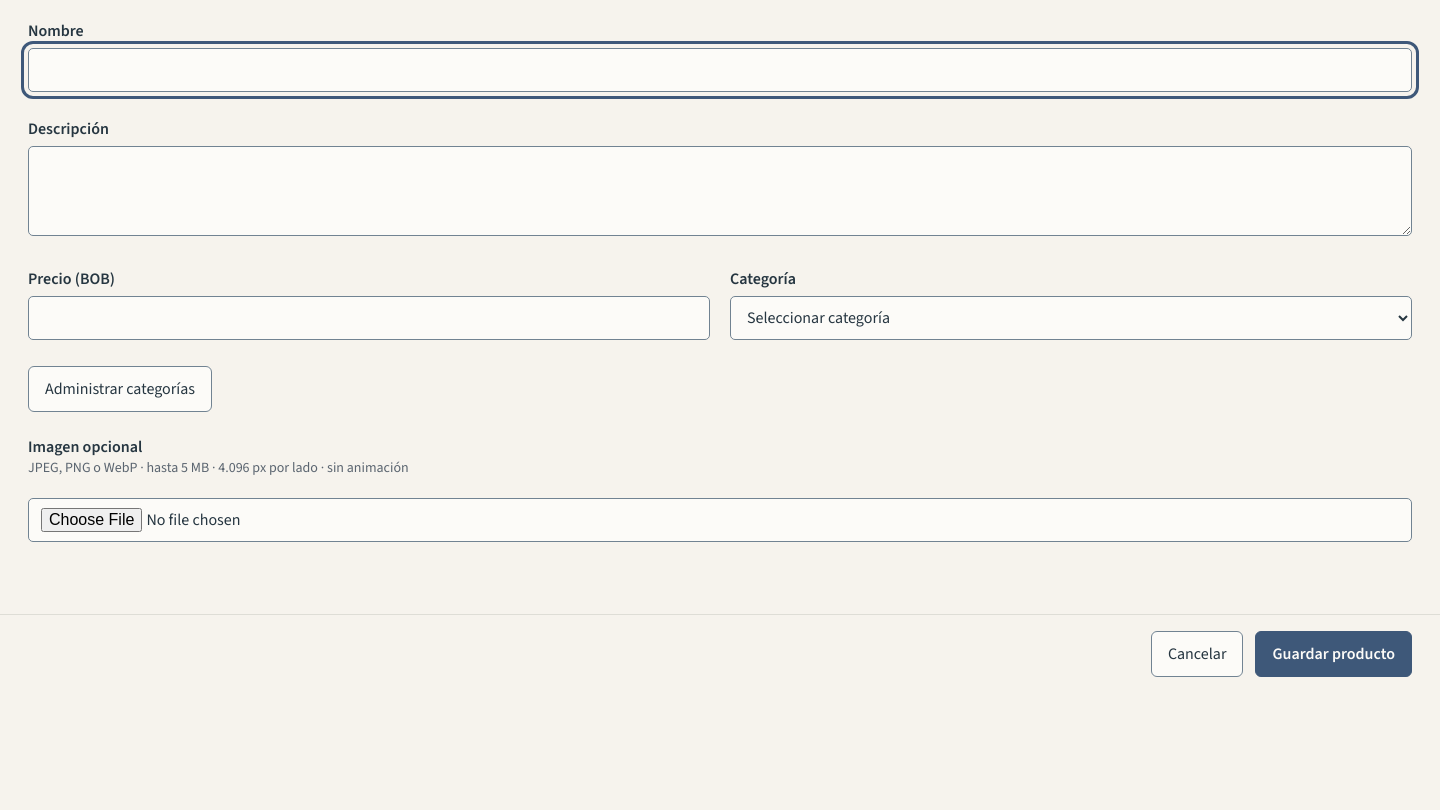
Test: Interfaz de menú › validaciones accesibles enfocan el primer campo inválido
Click the button "Guardar producto" at (1334, 654), box [1256, 631, 1412, 677]
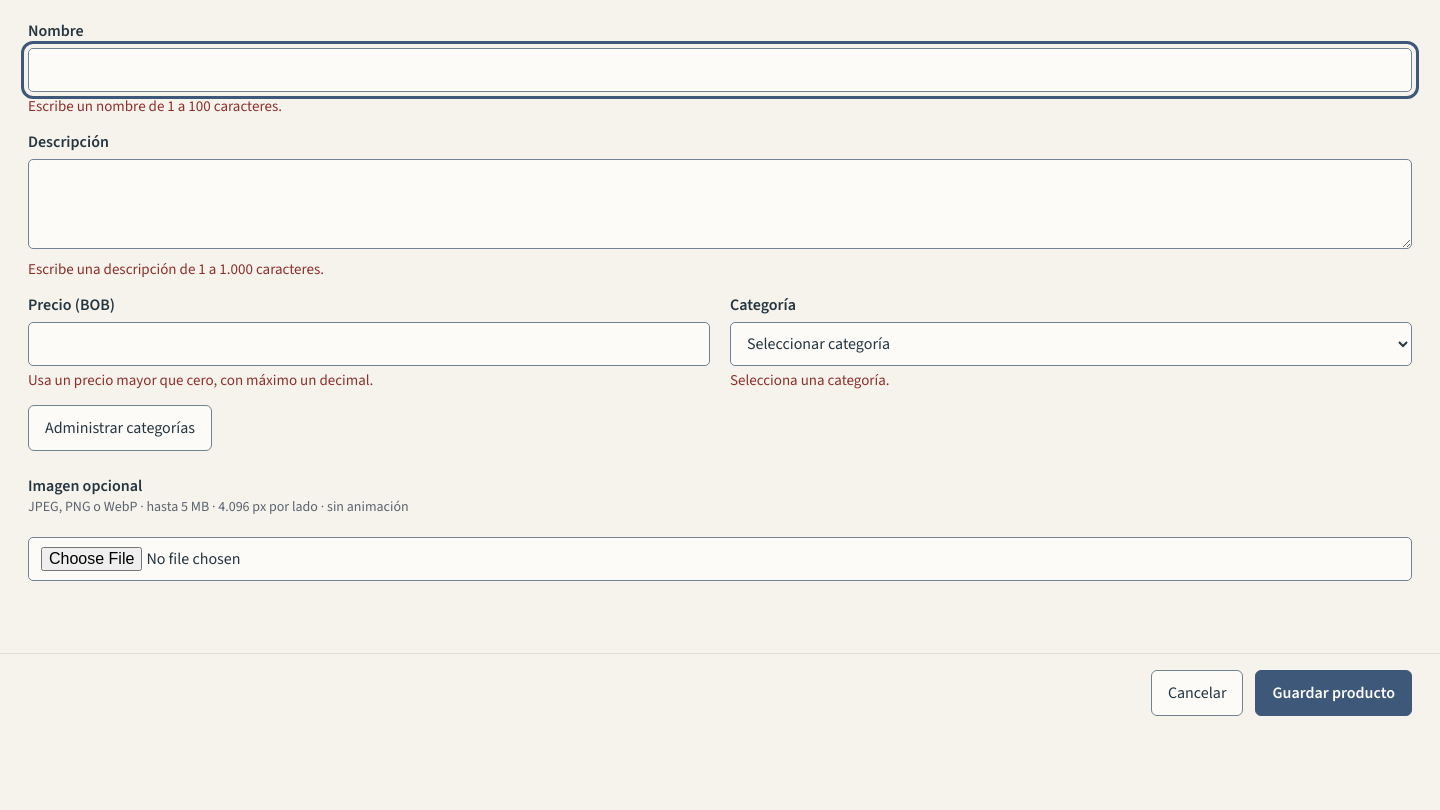
Check: the text "Selecciona una categoría." is shown, box [730, 370, 890, 391]
